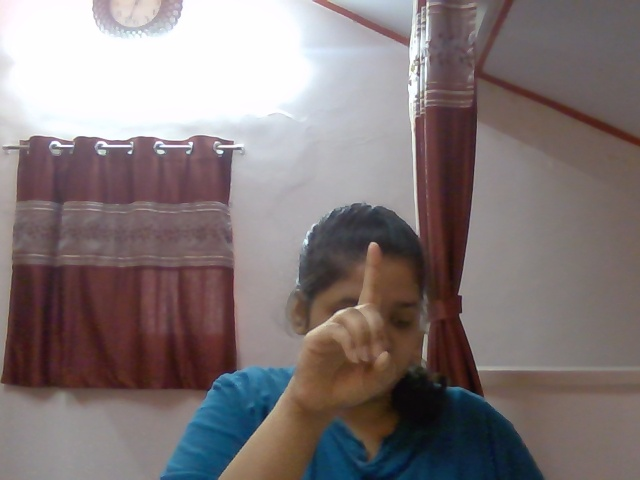d: (303, 237, 397, 413)
